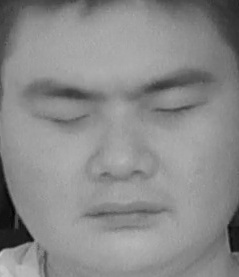blink: (153, 92, 202, 127), (36, 102, 89, 134)
mouth: (80, 189, 166, 240)
